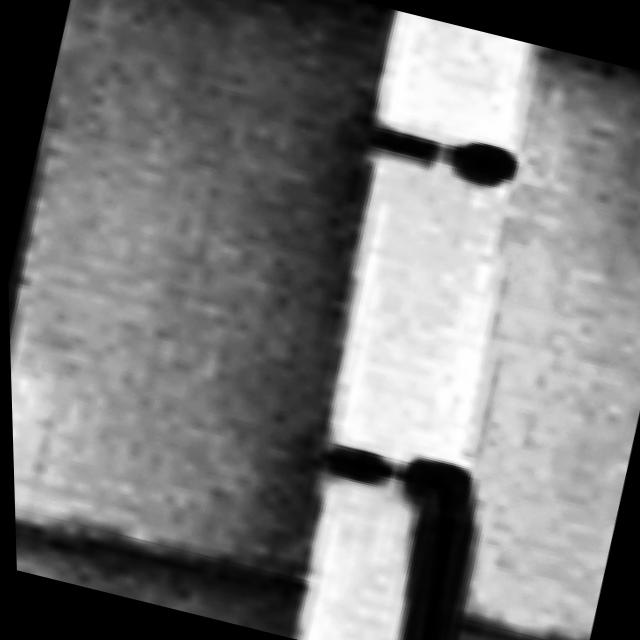Hotspots: (8, 333, 74, 454)
PV-modules: (7, 0, 395, 582), (433, 53, 640, 640), (12, 526, 305, 640), (464, 615, 585, 640)
